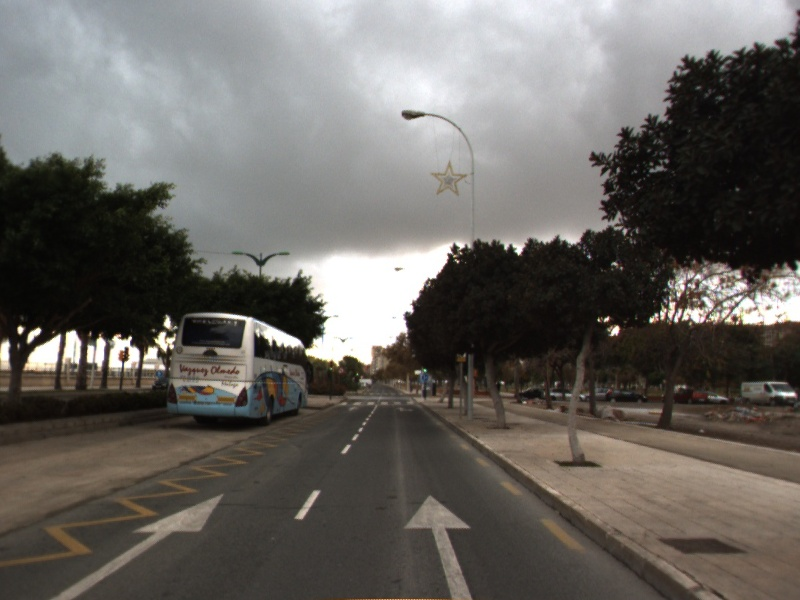STRAIGHT: (42, 491, 227, 600), (400, 491, 475, 600)
